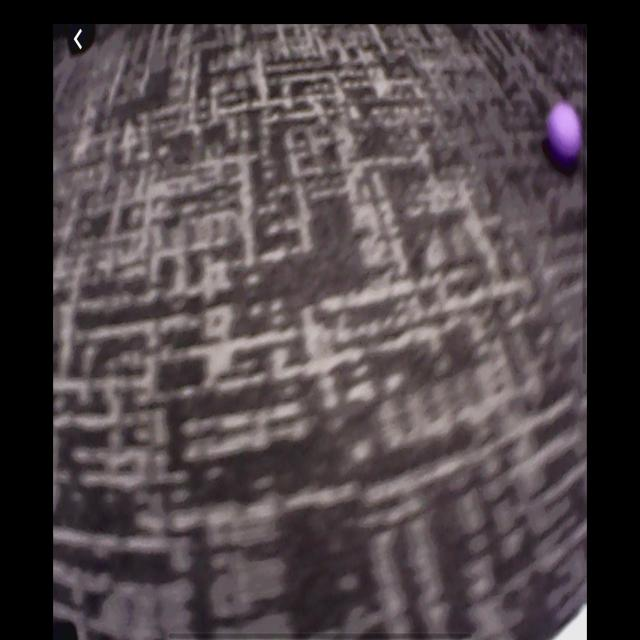ball: (549, 105, 583, 158)
